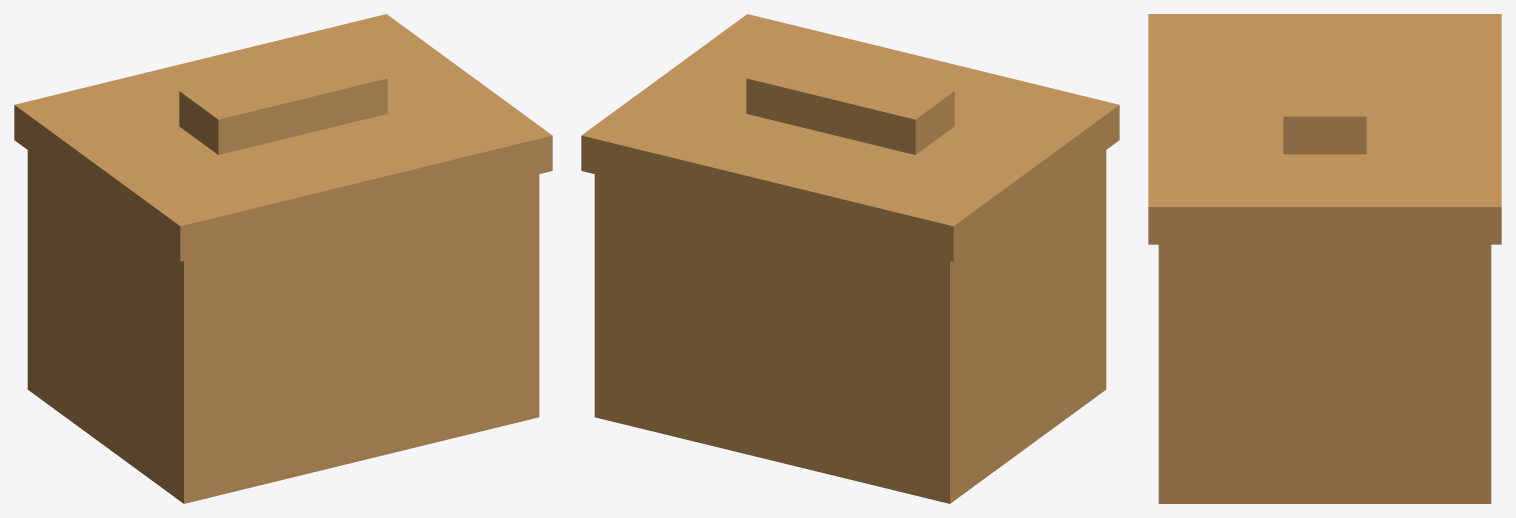
The model's file is product_fried_carton.glb.
3 renders of one model, left to right at view 1: azimuth 30°, elevation 25°; view 2: azimuth 150°, elevation 25°; view 3: azimuth 270°, elevation 25°, orthographic. The views are drawn at different scales.
Visible parts, largest first — view 1: product.fried_carton; view 2: product.fried_carton; view 3: product.fried_carton.
Part boxes in pixels (box(x1,y1,x2,y2)): product.fried_carton: box(14, 14, 552, 503); product.fried_carton: box(581, 14, 1119, 503); product.fried_carton: box(1148, 14, 1501, 503).
Size of the model in its own units: 0.24 by 0.1964 by 0.1855.
